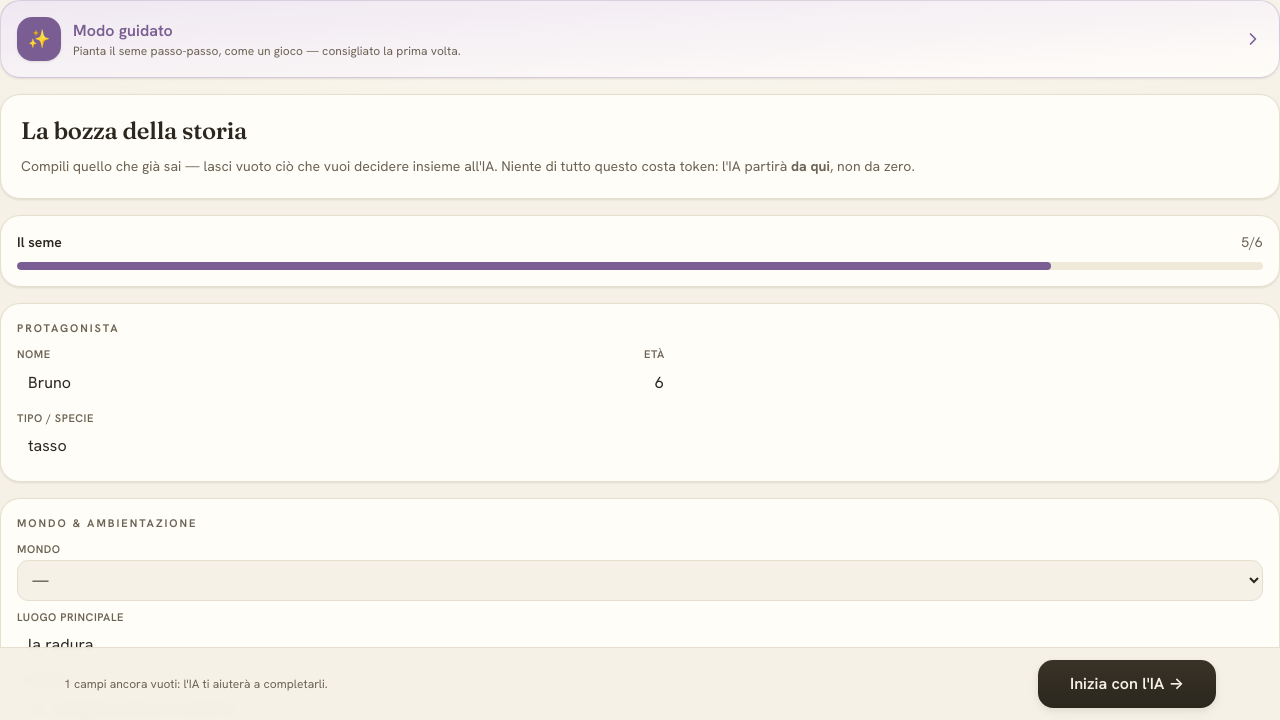
Test case: §6.2 Phase1Seeding › intake → 'Inizia con l'IA' appende il messaggio d'apertura e passa allo studio
Click the button "Inizia con l'IA →" at (1127, 684), box 1038,660 -> 1216,708
(page scrolled)
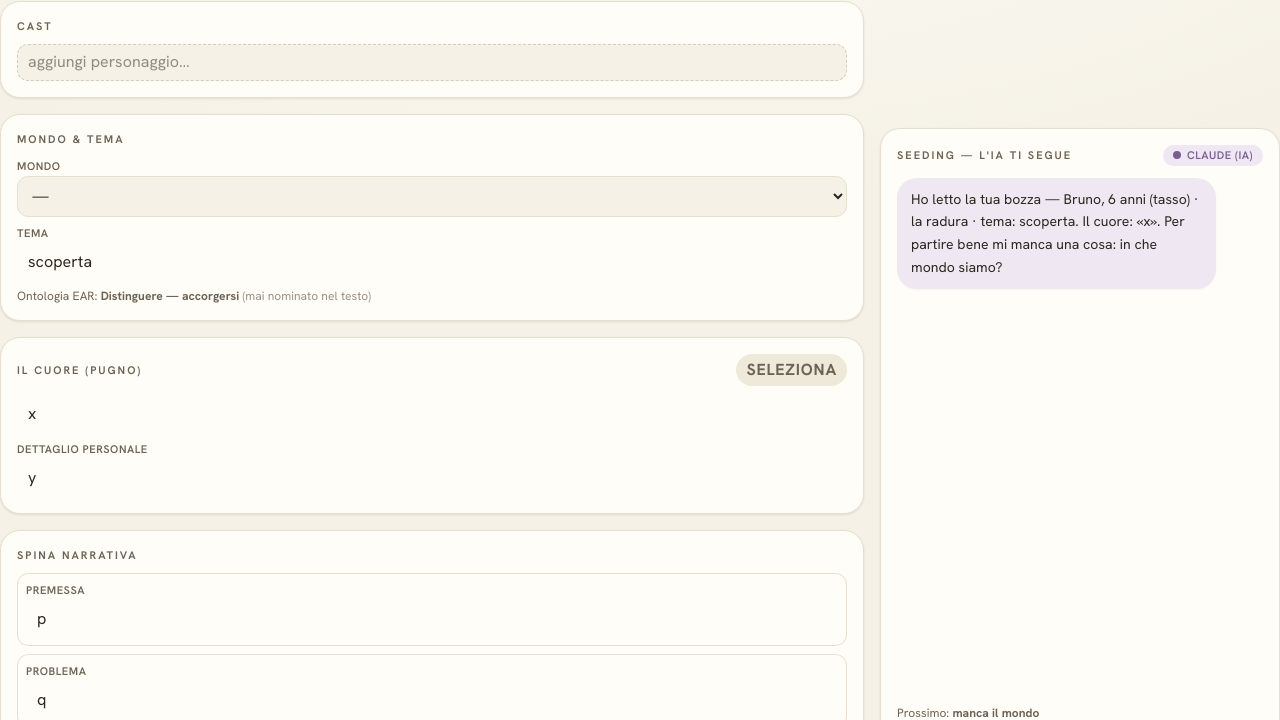
Expected: the text "Modo guidato" is gone
Expected: the text "Inizia con l'IA" is gone
